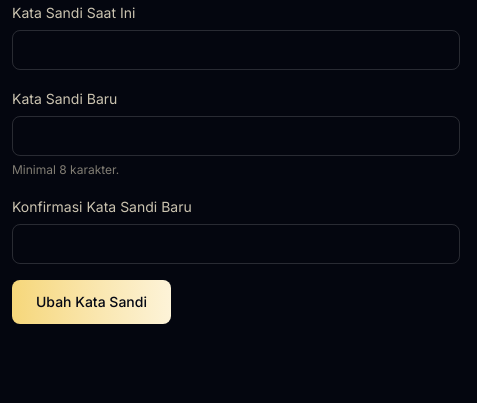
Test: AdminPasswordForm › rejects a too-short new password client-side
The width and height of the screenshot is (477, 403).
Type "correct-horse-battery" into the password field labelled "Kata Sandi Saat Ini" at (236, 50), box [12,30,460,70]
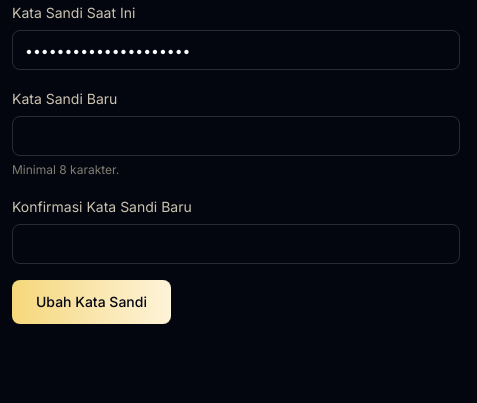
Type "short" into the password field labelled "Kata Sandi Baru" at (236, 136), box [12,116,460,156]
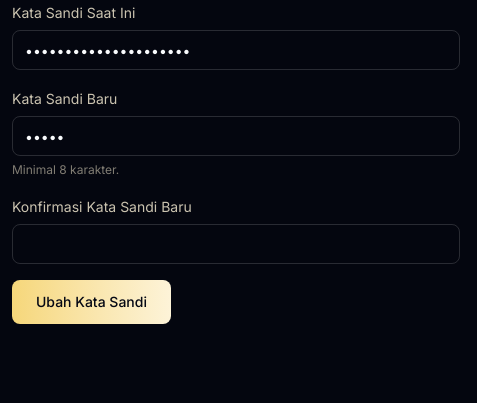
Type "short" into the password field labelled "Konfirmasi Kata Sandi Baru" at (236, 244), box [12,224,460,264]
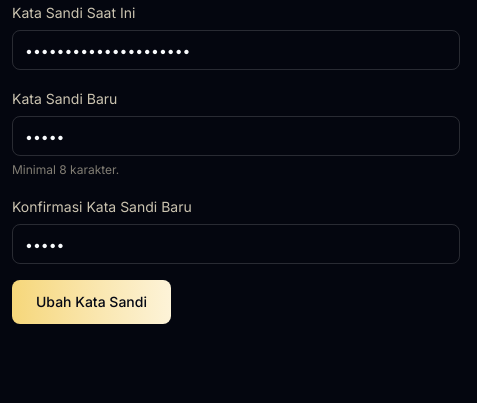
Click the button "Ubah Kata Sandi" at (92, 302), box [12,280,171,324]
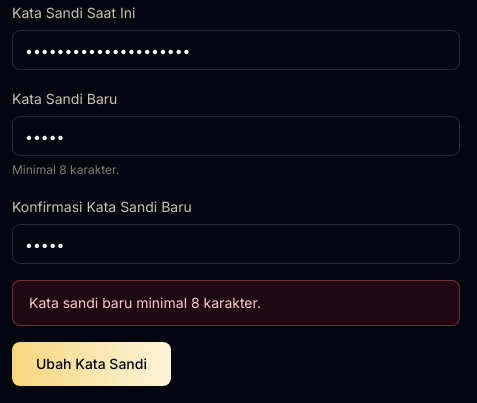
Expected: the message shows "minimal", [29,294,261,311]
